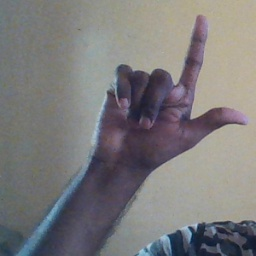L: (92, 14, 249, 165)
